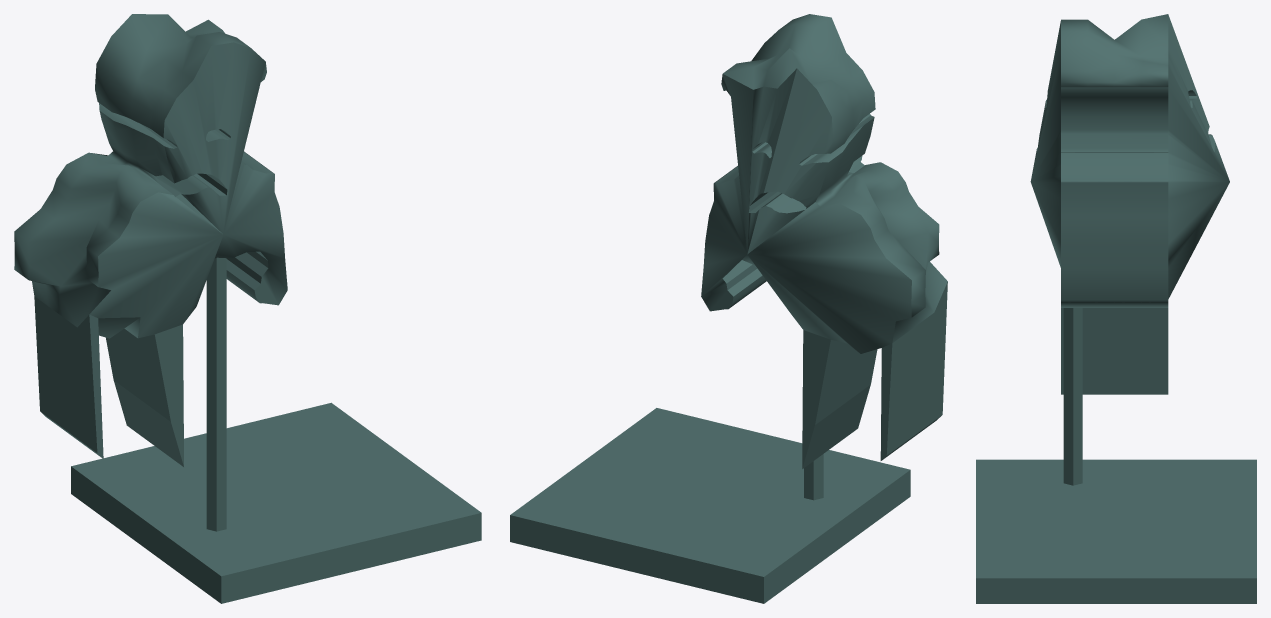
File: SombraDCS.fbx
3 views of the same model, side by side, from view 1: azimuth 30°, elevation 25°; view 2: azimuth 150°, elevation 25°; view 3: azimuth 270°, elevation 25° (orthographic). The views are drawn at different scales.
Parts seen in each view (by area): view 1: SombraE, SuporteE, pCylinder11; view 2: SombraE, SuporteE, pCylinder11; view 3: SombraE, SuporteE, pCylinder11.
Part boxes in pixels (x1,y1,x2,y2): SombraE: [14, 14, 287, 466]; SuporteE: [71, 402, 481, 603]; pCylinder11: [206, 257, 226, 531]; SombraE: [701, 14, 947, 468]; SuporteE: [510, 408, 910, 603]; pCylinder11: [804, 454, 823, 500]; SombraE: [1030, 14, 1229, 394]; SuporteE: [976, 459, 1256, 603]; pCylinder11: [1063, 308, 1082, 485].
Size of the model in its own units: 1.4 by 1.89 by 1.
